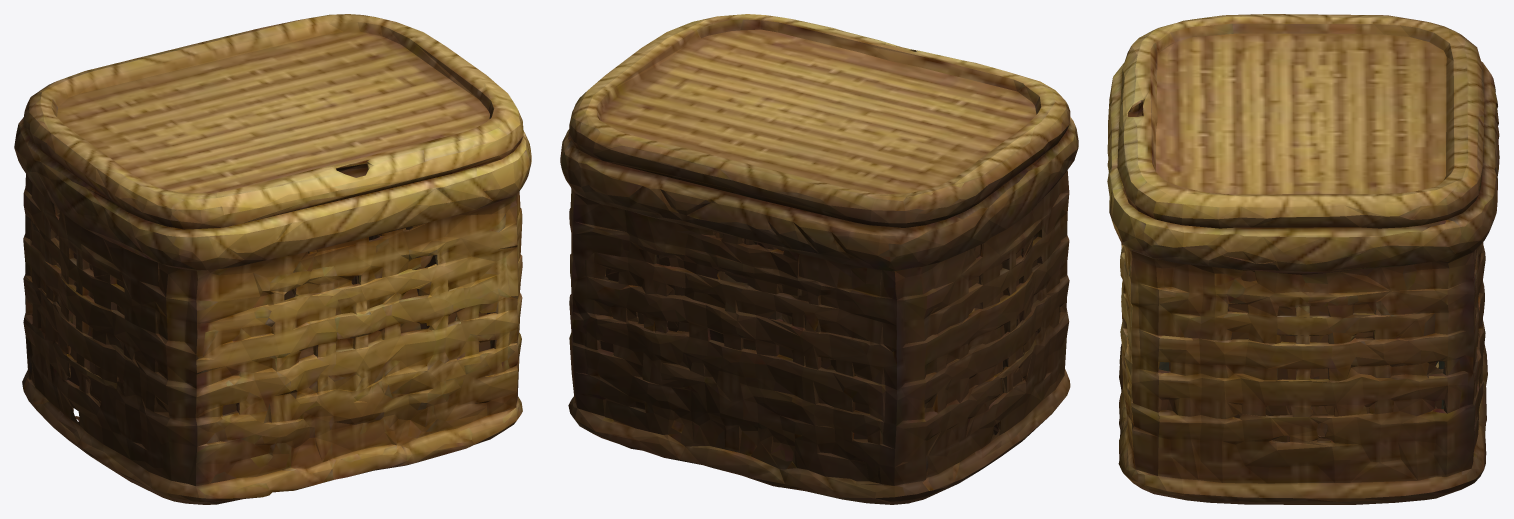
File: basket.glb
3 views of the same model, side by side, from view 1: azimuth 30°, elevation 25°; view 2: azimuth 150°, elevation 25°; view 3: azimuth 270°, elevation 25° (orthographic).
Visible parts, largest first — view 1: geometry_0; view 2: geometry_0; view 3: geometry_0.
Boxes of the visible parts, left/top/right/bottom form: geometry_0: left=14, top=14, right=531, bottom=504; geometry_0: left=560, top=14, right=1078, bottom=504; geometry_0: left=1107, top=14, right=1499, bottom=504.
Bounding box in the file's own units: 0.9981 × 0.7162 × 0.824.
1 material, 1 textured.
